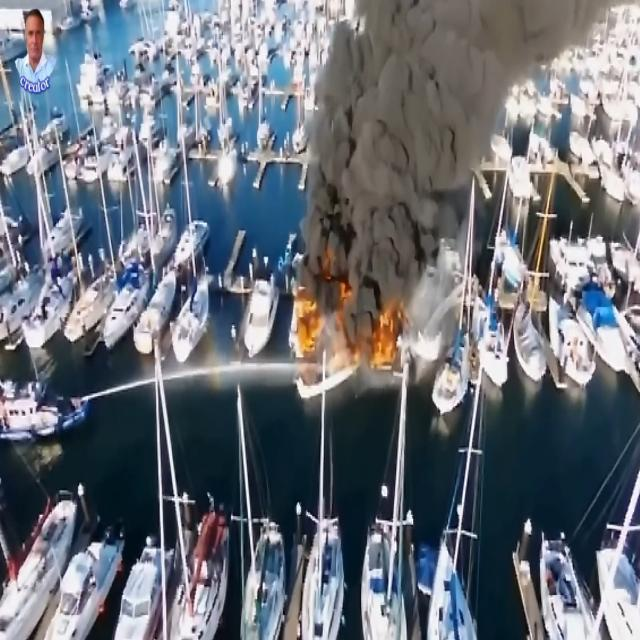Fire: (374, 310, 406, 376), (294, 295, 320, 343)
Smoke: (378, 0, 501, 165), (329, 31, 427, 202), (348, 181, 431, 290)
